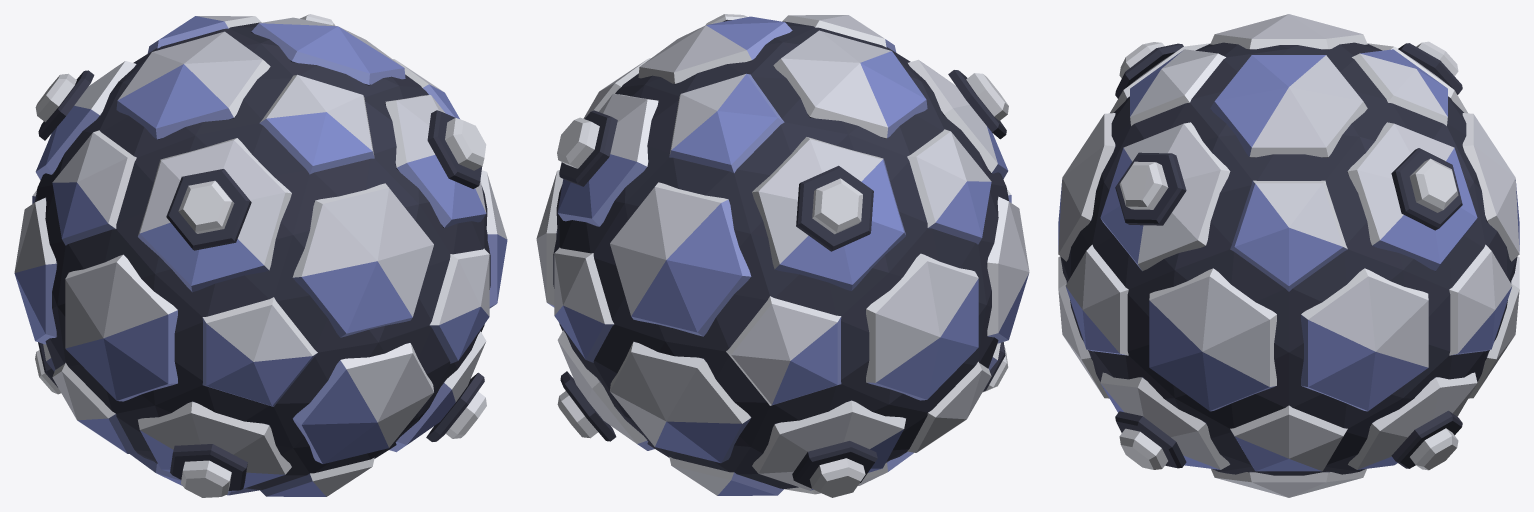
File: Ball_06_Steel.glb
3 renders of one model, left to right at view 1: azimuth 30°, elevation 25°; view 2: azimuth 150°, elevation 25°; view 3: azimuth 270°, elevation 25°, orthographic. The views are drawn at different scales.
Visible parts, largest first — view 1: Ball_06_Steel.001; view 2: Ball_06_Steel.001; view 3: Ball_06_Steel.001.
Part boxes in pixels (bbox=[...]): Ball_06_Steel.001: bbox=[14, 14, 507, 497]; Ball_06_Steel.001: bbox=[536, 14, 1029, 497]; Ball_06_Steel.001: bbox=[1058, 14, 1519, 497].
Size of the model in its own units: 1.97 by 1.97 by 1.97.
1 material, 1 textured.
